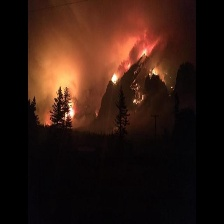fire: (64, 99, 76, 119), (139, 47, 150, 58), (110, 71, 118, 85)
smoke: (32, 3, 123, 88), (145, 5, 187, 59)
